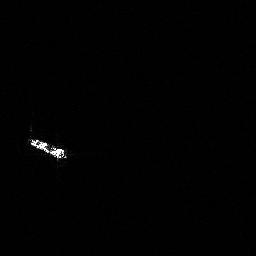ship: (25, 134, 72, 162)
